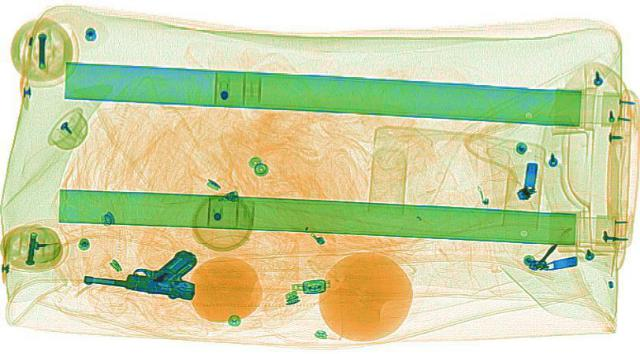Gun: (81, 249, 199, 296)
